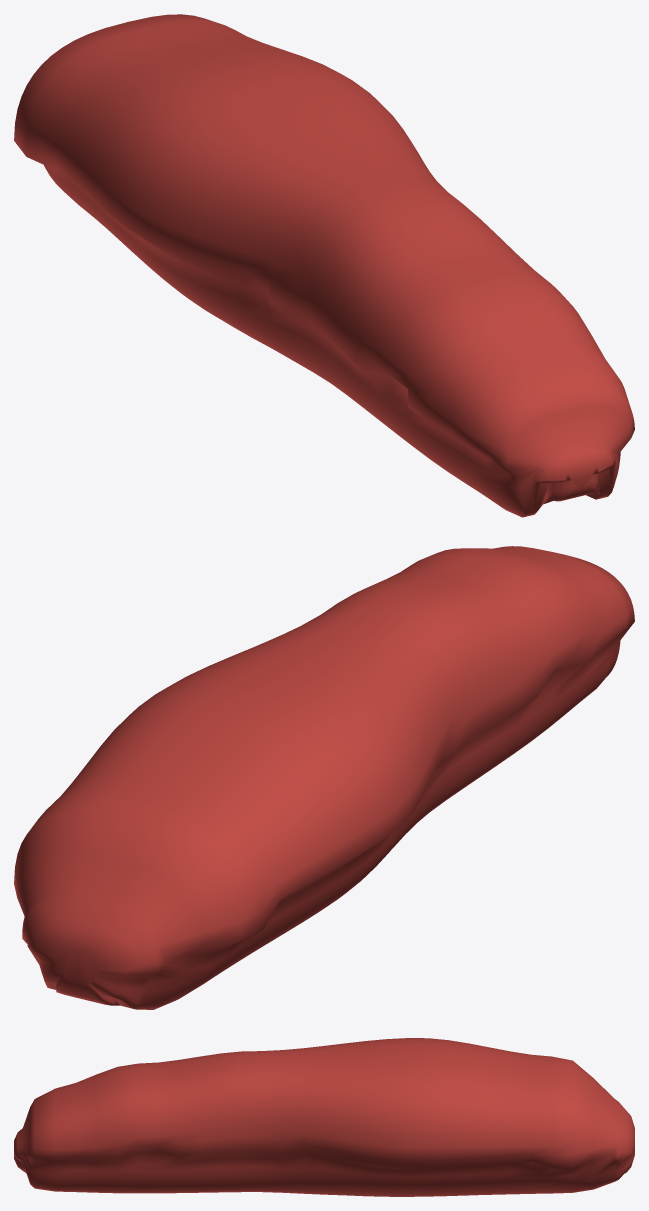
Rendered from cafe.glb.
3 views of the same model, one above another, from view 1: azimuth 30°, elevation 25°; view 2: azimuth 150°, elevation 25°; view 3: azimuth 270°, elevation 25° (orthographic). The views are drawn at different scales.
Visible parts, largest first — view 1: lod0; view 2: lod0; view 3: lod0.
Part boxes in pixels (left/top/right/bottom): lod0: left=14, top=14, right=634, bottom=517; lod0: left=14, top=546, right=634, bottom=1009; lod0: left=14, top=1038, right=634, bottom=1196.
Size of what is drawn, in the model's own units: 0.3091 by 0.2294 by 1.
